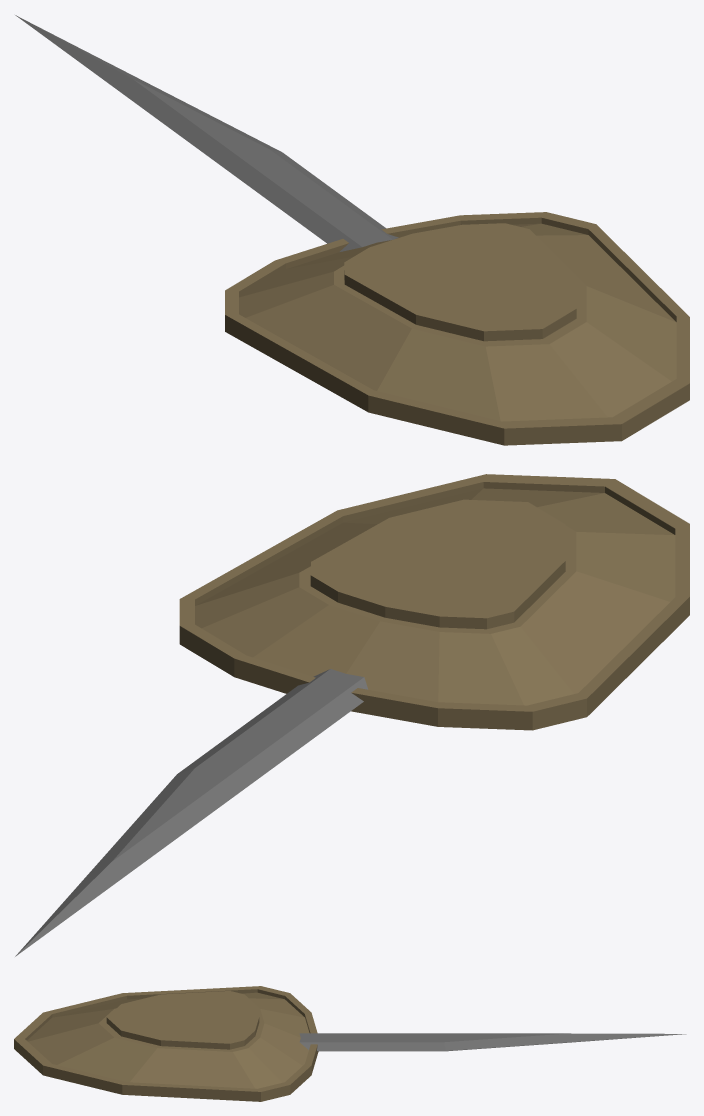
File: swordshield.fbx
3 views of the same model, one above another, from view 1: azimuth 30°, elevation 25°; view 2: azimuth 150°, elevation 25°; view 3: azimuth 270°, elevation 25° (orthographic). The views are drawn at different scales.
Visible parts, largest first — view 1: Shield, Sword; view 2: Shield, Sword; view 3: Shield, Sword.
Boxes of the visible parts, x1,y1,x2,y2 form: Shield: [225, 212, 689, 445]; Sword: [15, 15, 398, 251]; Shield: [179, 474, 689, 730]; Sword: [15, 669, 368, 956]; Shield: [14, 986, 318, 1101]; Sword: [299, 1033, 686, 1051].
Bounding box in the file's own units: 200 × 34.99 × 539.
